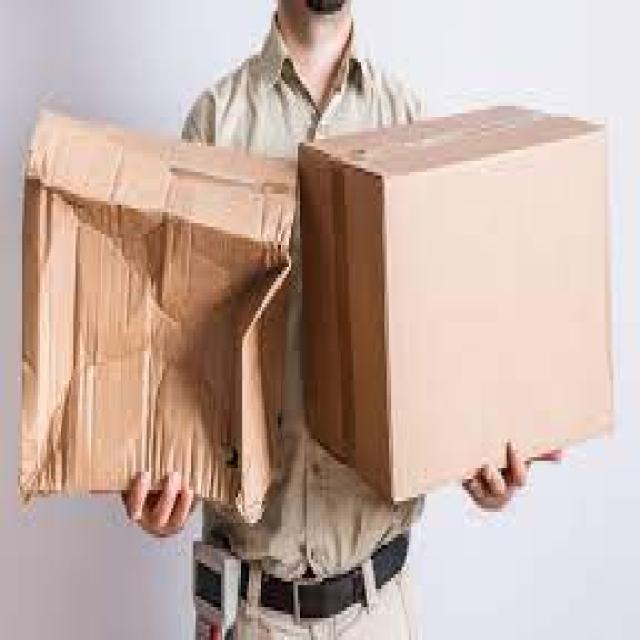Kardus kondisi bagus: (300, 105, 616, 507)
Kardus kondisi rusak: (22, 107, 299, 527)
